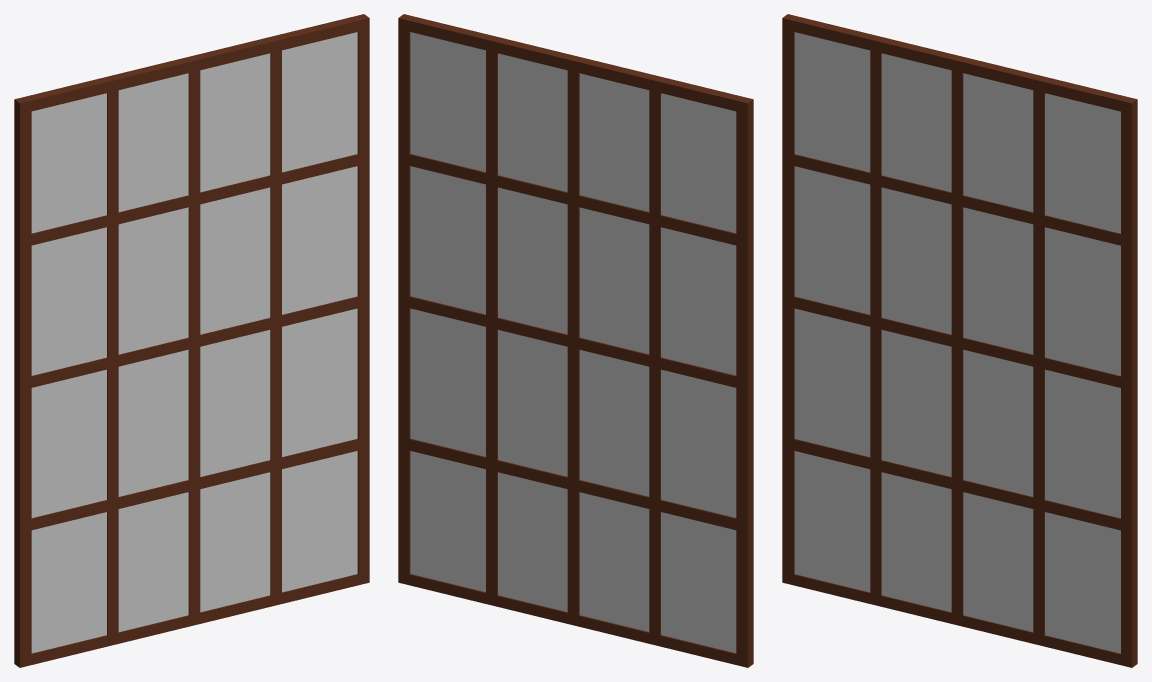
The model's file is Door Assessment.fbx.
3 renders of one model, left to right at view 1: azimuth 30°, elevation 25°; view 2: azimuth 150°, elevation 25°; view 3: azimuth 330°, elevation 25°, orthographic.
Visible parts, largest first — view 1: Door; view 2: Door; view 3: Door.
Boxes of the visible parts, left/top/right/bottom form: Door: left=14, top=14, right=369, bottom=667; Door: left=398, top=14, right=753, bottom=667; Door: left=782, top=14, right=1137, bottom=667.
Size of the model in its own units: 137 by 212 by 3.81.
